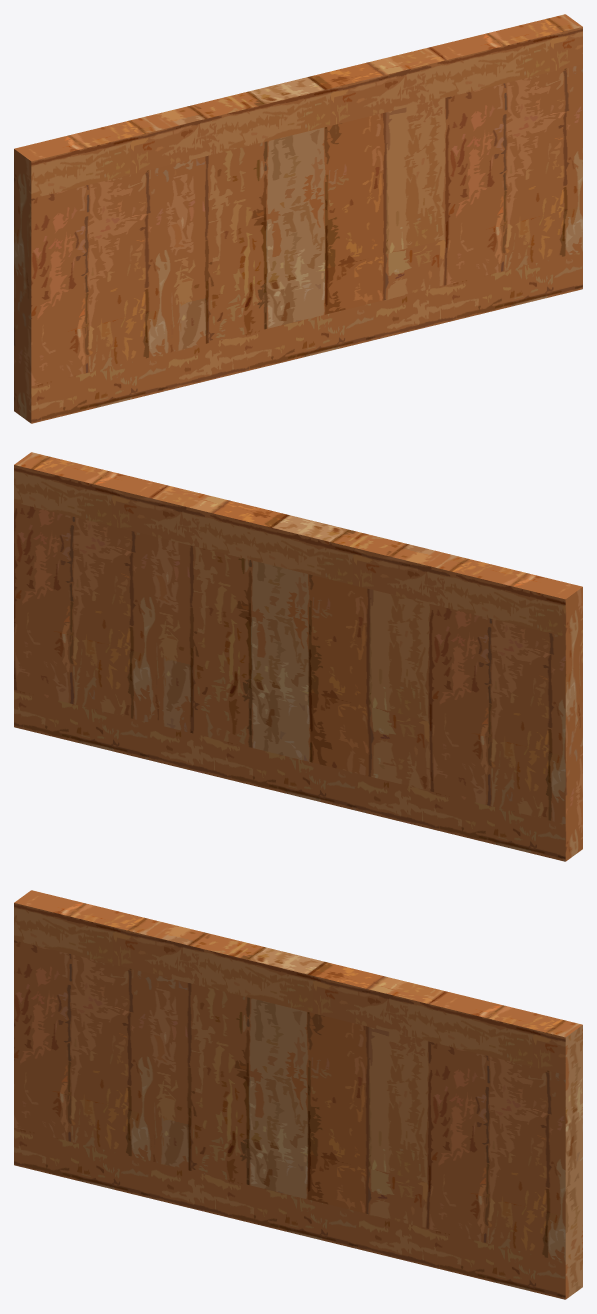
File: Puerta cuadra buena.fbx
3 views of the same model, one above another, from view 1: azimuth 30°, elevation 25°; view 2: azimuth 150°, elevation 25°; view 3: azimuth 330°, elevation 25° (orthographic).
Parts seen in each view (by area): view 1: Box001; view 2: Box001; view 3: Box001.
Part boxes in pixels (x1=…): Box001: x1=14, y1=14, x2=582, y2=423; Box001: x1=14, y1=452, x2=582, y2=861; Box001: x1=14, y1=890, x2=582, y2=1299.
Bounding box in the file's own units: 140 × 63.5 × 7.62.
